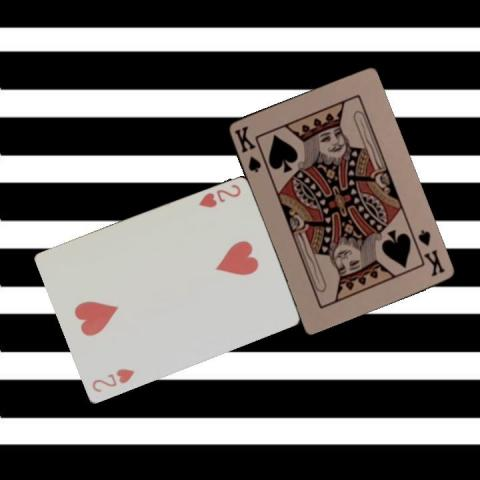2h: (196, 180, 243, 208), (89, 365, 136, 393)
Ks: (414, 226, 446, 278), (231, 123, 262, 174)
